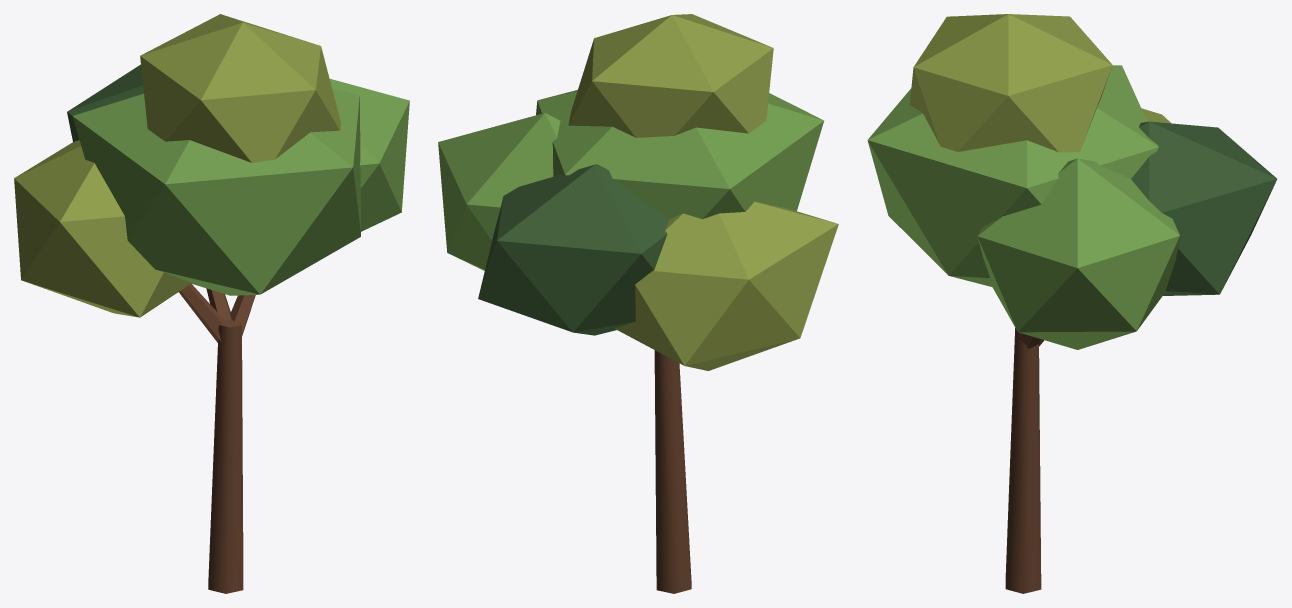
File: Town_TreeBig.fbx
3 renders of one model, left to right at view 1: azimuth 30°, elevation 25°; view 2: azimuth 150°, elevation 25°; view 3: azimuth 270°, elevation 25°, orthographic. The views are drawn at different scales.
Parts seen in each view (by area): view 1: Decor; view 2: Decor; view 3: Decor.
Boxes of the visible parts, box(x1,y1,x2,y2) form: Decor: box(14, 14, 409, 593); Decor: box(438, 14, 838, 593); Decor: box(867, 14, 1277, 593).
Bounding box in the file's own units: 23.6 × 33.93 × 21.89.
